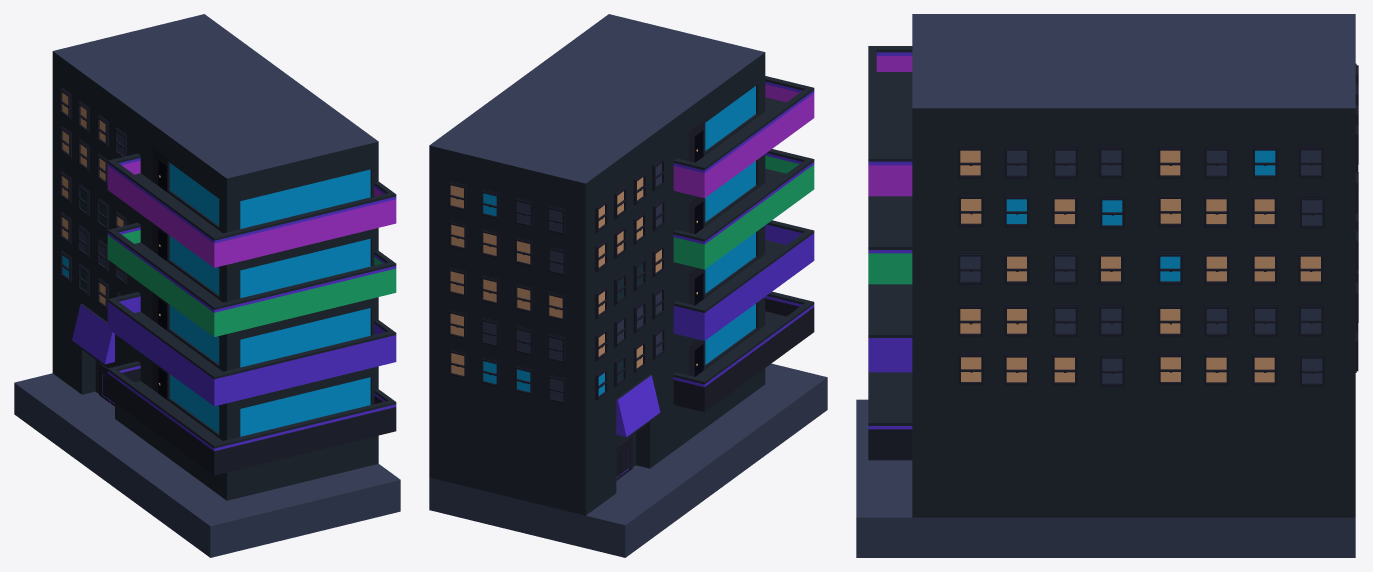
Rendered from Building_morpartmentTower01.fbx.
3 views of the same model, side by side, from view 1: azimuth 30°, elevation 25°; view 2: azimuth 150°, elevation 25°; view 3: azimuth 270°, elevation 25° (orthographic). The views are drawn at different scales.
Visible parts, largest first — view 1: Cube.823; view 2: Cube.823; view 3: Cube.823.
Part boxes in pixels (bbox=[...]): Cube.823: bbox=[14, 14, 400, 557]; Cube.823: bbox=[429, 14, 827, 557]; Cube.823: bbox=[856, 14, 1358, 557].
Bounding box in the file's own units: 1091 × 1918 × 1940.
